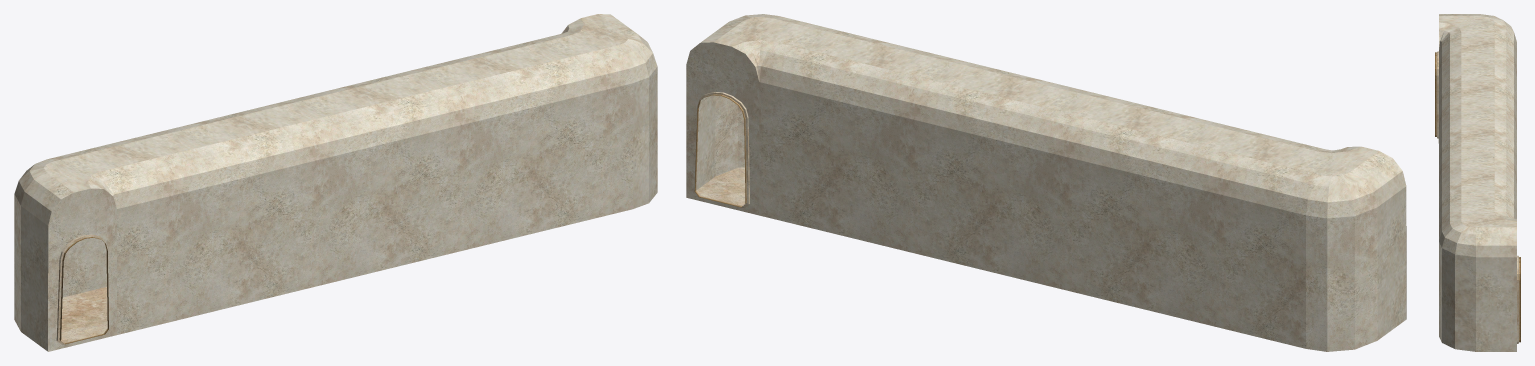
Rendered from ply_tato_house_lg_s01_fp1_r1_entry_mesh_r1.fbx.
The picture shows the model from 3 angles, left to right: view 1: azimuth 30°, elevation 25°; view 2: azimuth 150°, elevation 25°; view 3: azimuth 270°, elevation 25°; orthographic projection. The views are drawn at different scales.
Visible parts, largest first — view 1: mesh_node; view 2: mesh_node; view 3: mesh_node.
Part boxes in pixels (<box>): mesh_node: <box>14,14,657,351</box>; mesh_node: <box>686,14,1406,351</box>; mesh_node: <box>1435,14,1520,351</box>.
Bounding box in the file's own units: 18.25 × 4.25 × 2.88.
